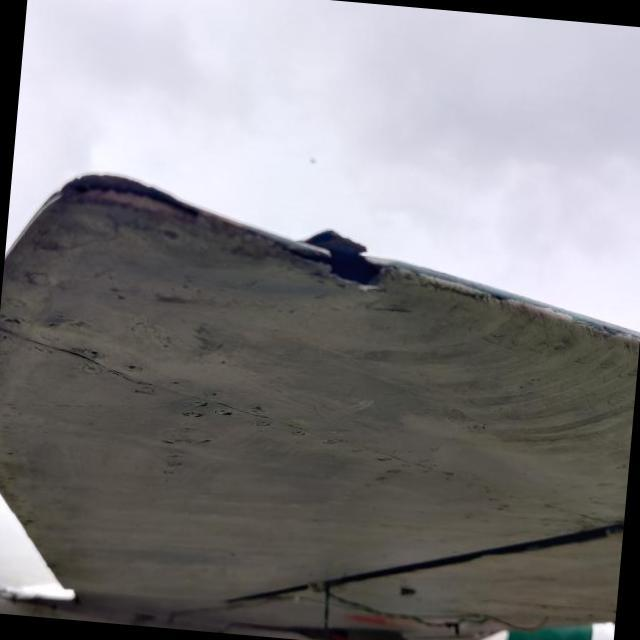Rupture: (273, 207, 410, 306)
